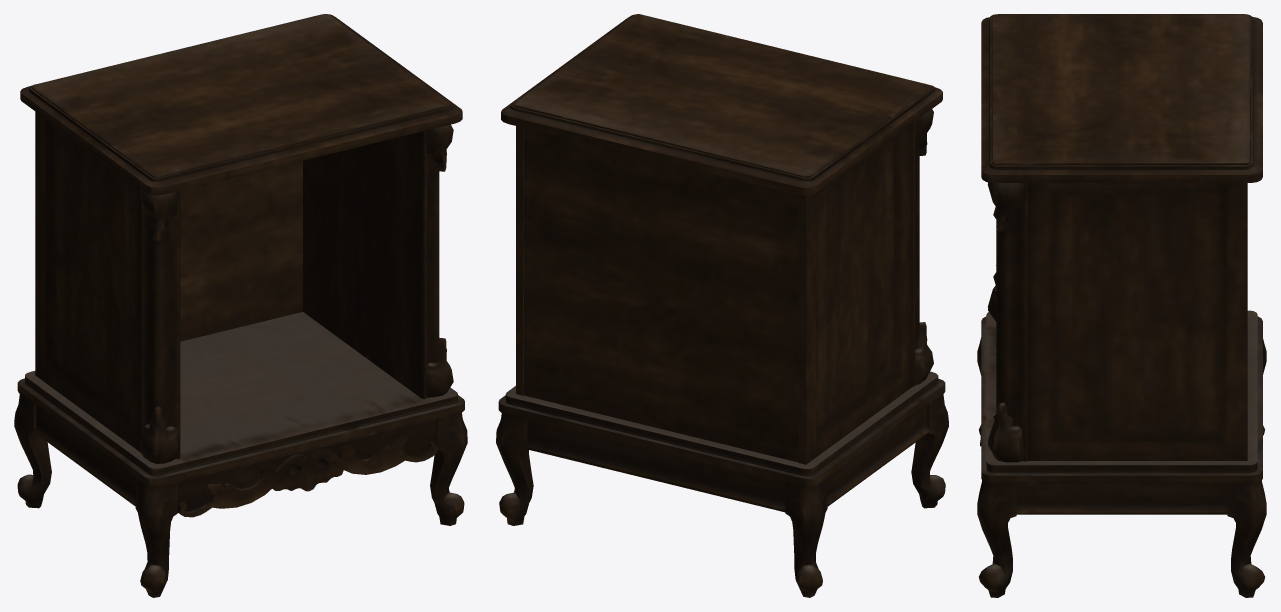
The model's file is nightstand.glb.
3 views of the same model, side by side, from view 1: azimuth 30°, elevation 25°; view 2: azimuth 150°, elevation 25°; view 3: azimuth 270°, elevation 25° (orthographic). The views are drawn at different scales.
Parts seen in each view (by area): view 1: mesh; view 2: mesh; view 3: mesh.
Part boxes in pixels (<box>): mesh: <box>14,14,467,597</box>; mesh: <box>496,14,948,597</box>; mesh: <box>977,14,1266,597</box>.
Bounding box in the file's own units: 0.5678 × 0.7 × 0.4242.
Materials: 1 (1 with a texture image).
